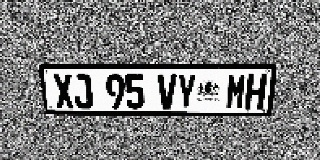5: (125, 74, 145, 109)
9: (105, 74, 126, 109)
H: (244, 74, 267, 109)
J: (71, 74, 93, 109)
M: (225, 74, 247, 109)
V: (158, 74, 177, 109)
X: (52, 74, 75, 109)
Y: (177, 74, 196, 109)
